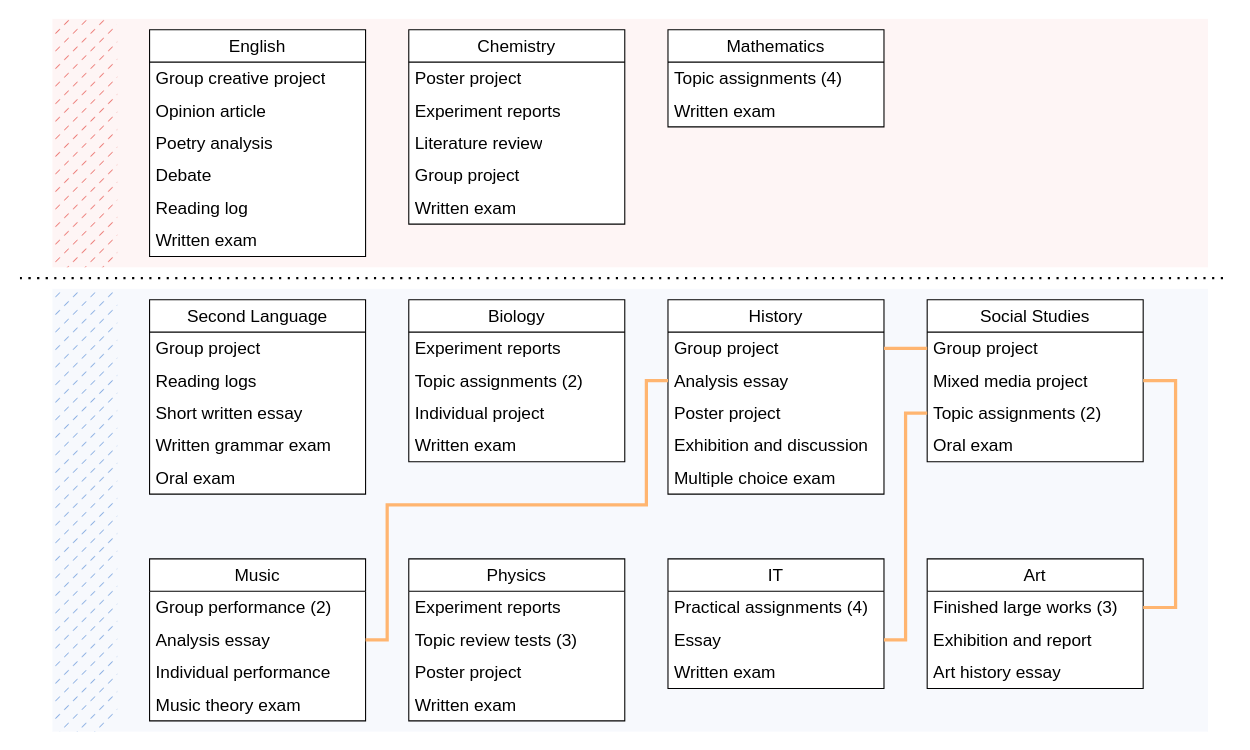
Some shapes in this 1250 by 750 pixel diagram are drawn without their labels. Each missing label, with the centre of its shape:
"Core" goes at pixel 84 142.
"Elective" goes at pixel 84 509.
